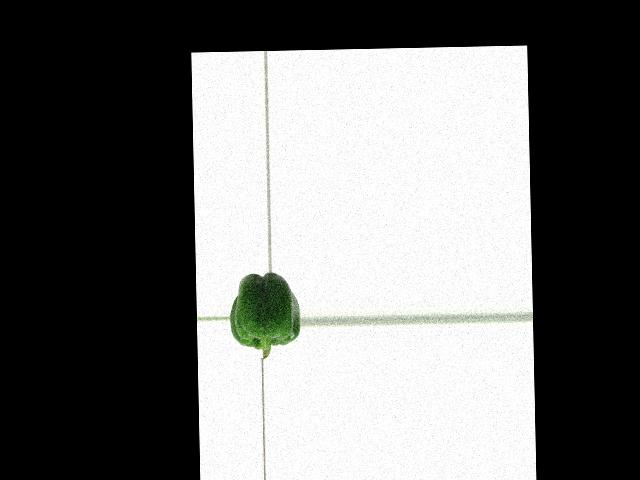bell_pepper: (229, 271, 299, 358)
